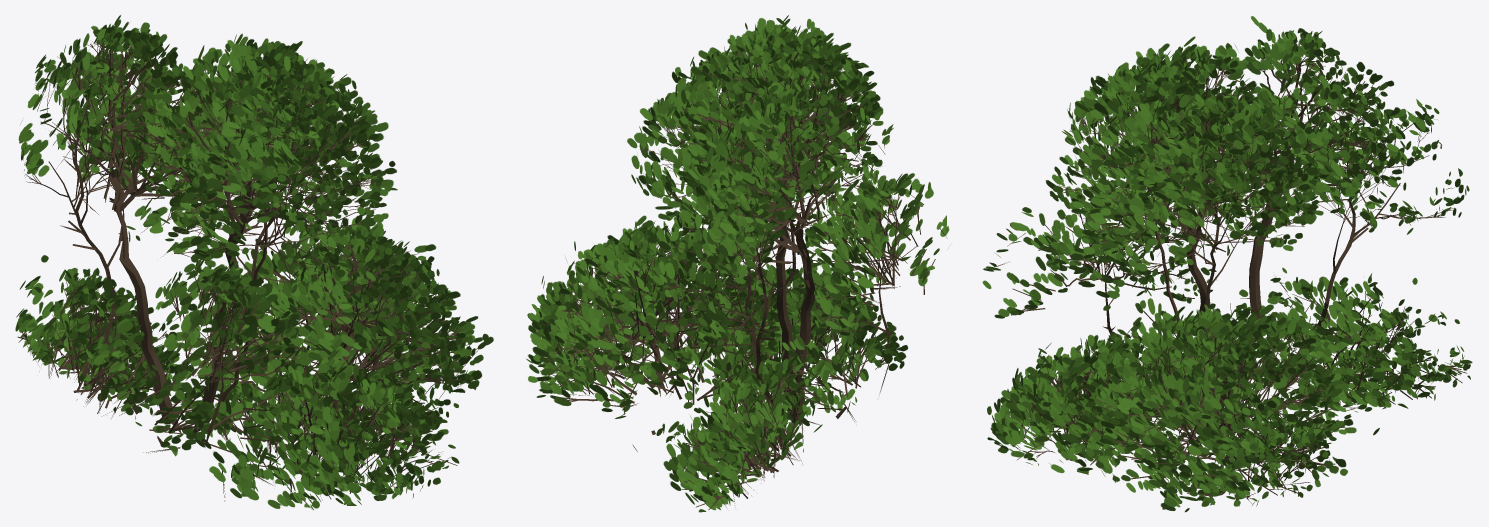
The picture shows the model from 3 angles, left to right: view 1: azimuth 30°, elevation 25°; view 2: azimuth 150°, elevation 25°; view 3: azimuth 270°, elevation 25°; orthographic projection. The views are drawn at different scales.
Visible parts, largest first — view 1: oak 01.001_trunk_Mat.001_0.411; view 2: oak 01.001_trunk_Mat.001_0.411; view 3: oak 01.001_trunk_Mat.001_0.411.
Boxes of the visible parts, left/top/right/bottom form: oak 01.001_trunk_Mat.001_0.411: left=15, top=15, right=493, bottom=510; oak 01.001_trunk_Mat.001_0.411: left=526, top=15, right=949, bottom=512; oak 01.001_trunk_Mat.001_0.411: left=982, top=16, right=1472, bottom=512.
Size of the model in its own units: 4.15 by 4.87 by 5.63.
Materials: 2 (1 with a texture image).
